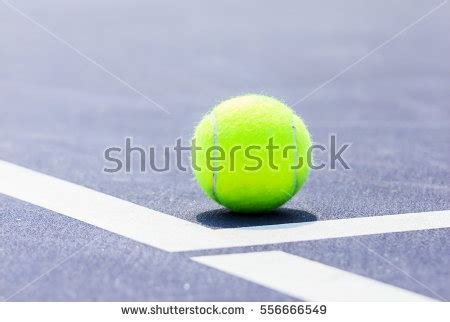tennis_ball: (192, 93, 312, 210)
